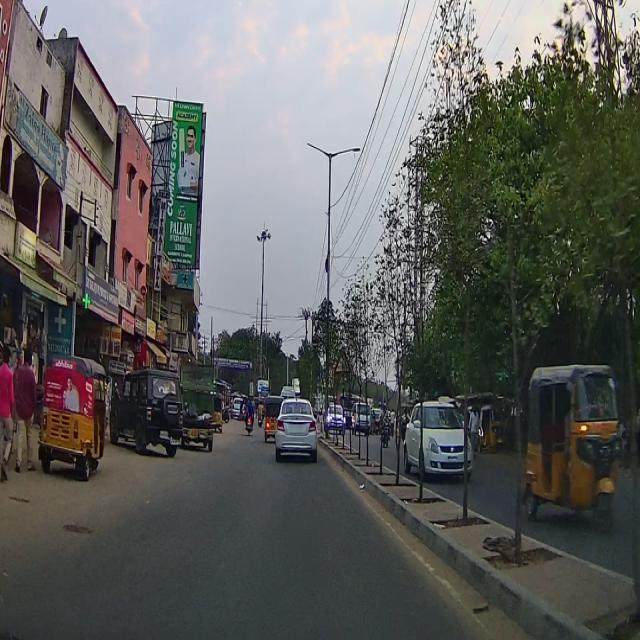gap-in-median: (335, 342, 351, 373)
